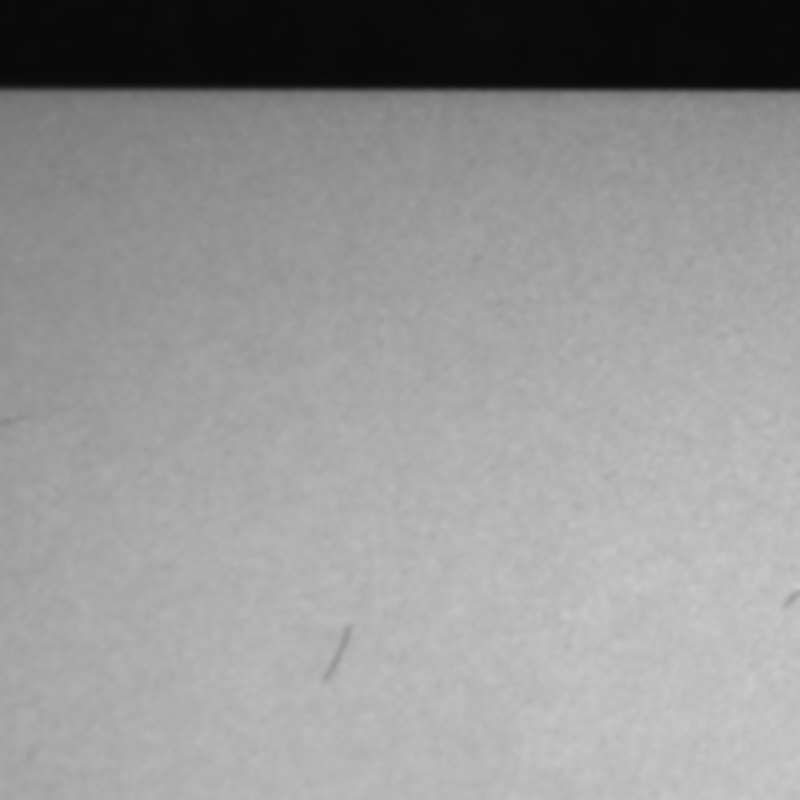defect: (318, 621, 355, 687), (779, 581, 800, 608)
